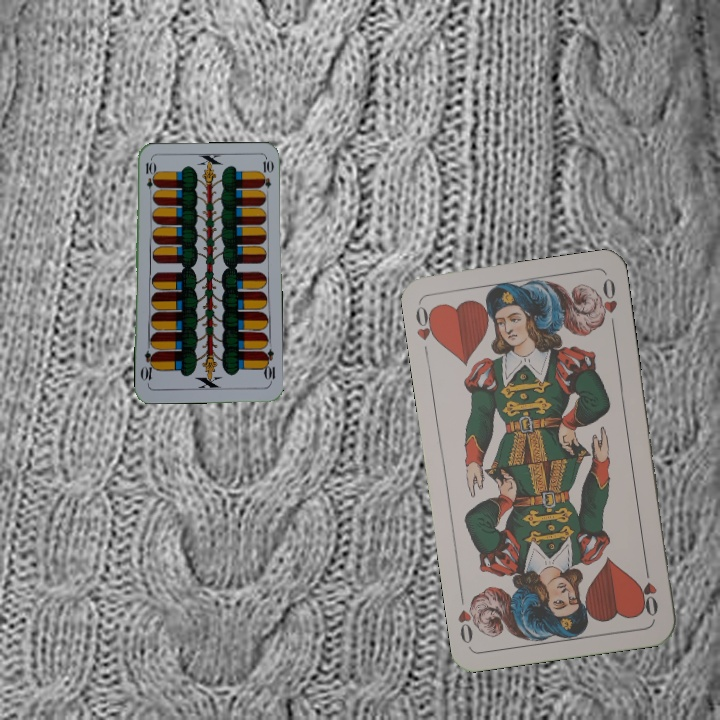E10: (258, 345, 278, 386), (142, 158, 156, 198)
HO: (636, 561, 661, 619), (411, 301, 441, 346)
